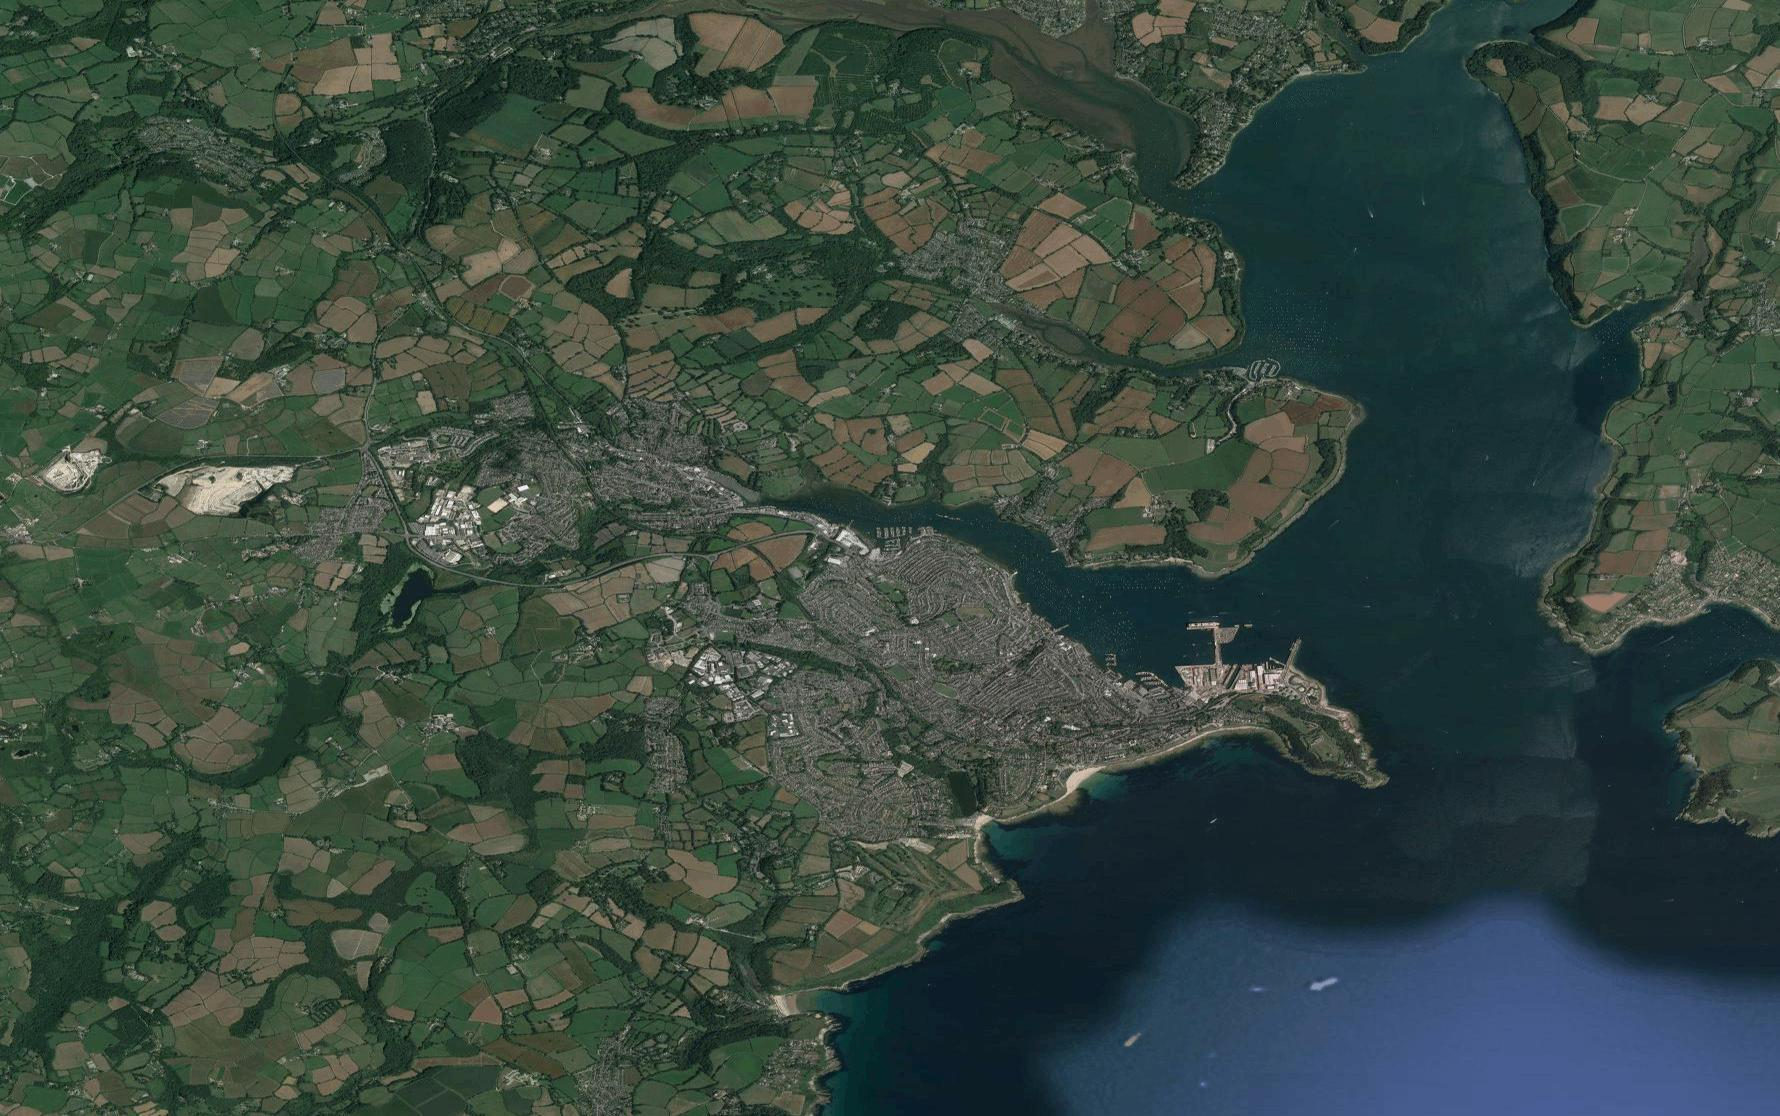harbor: (1131, 615, 1338, 707), (866, 519, 914, 562), (1244, 348, 1284, 387)
industrial: (419, 483, 482, 549)
motorway: (695, 530, 807, 562), (375, 471, 409, 536), (402, 540, 463, 575), (617, 545, 693, 570), (544, 564, 616, 590), (467, 572, 544, 590)
